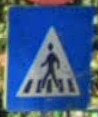trecere_pietoni: (5, 3, 93, 112)
